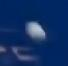Squash-Ball: (0, 1, 68, 66)
